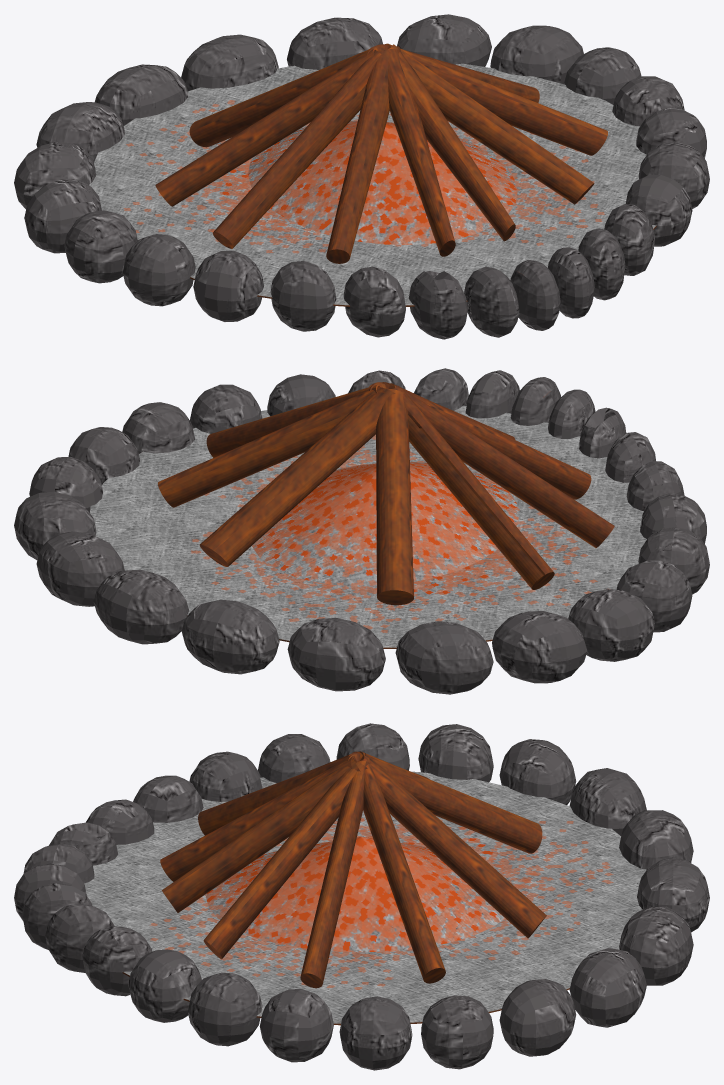
The model's file is Fireplace.fbx.
3 renders of one model, top to bottom at view 1: azimuth 30°, elevation 25°; view 2: azimuth 150°, elevation 25°; view 3: azimuth 270°, elevation 25°, orthographic.
Visible parts, largest first — view 1: Cylinder.001; view 2: Cylinder.001; view 3: Cylinder.001.
Part boxes in pixels (x1,y1,x2,y2): Cylinder.001: (14,14,709,339); Cylinder.001: (14,368,709,694); Cylinder.001: (14,723,709,1070).
Size of the model in its own units: 0.635 by 0.1686 by 0.6127.
